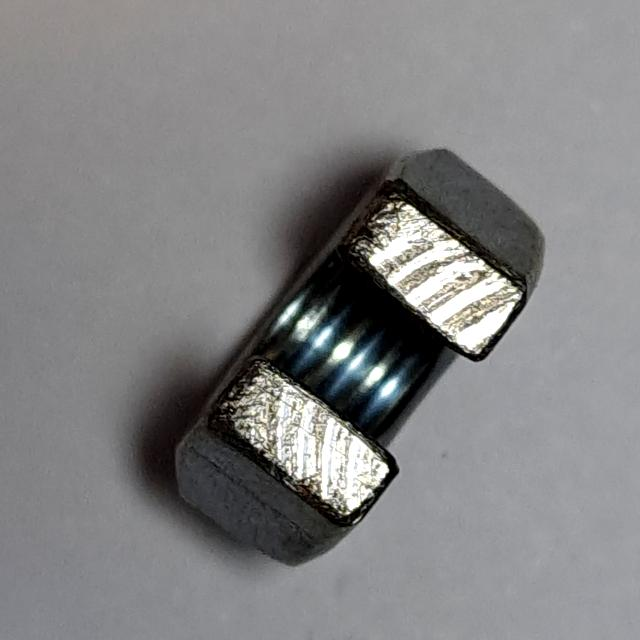Side-Fracture: (158, 137, 562, 583)
